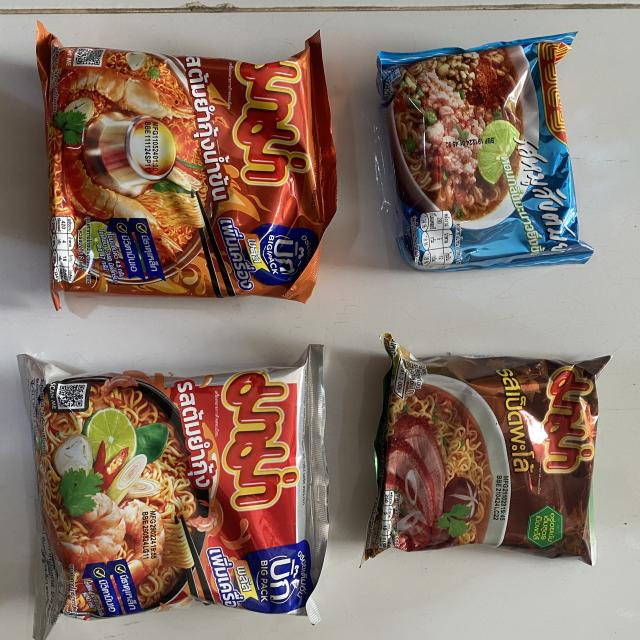plastik: (18, 345, 329, 640), (36, 22, 336, 309), (364, 334, 610, 562), (378, 32, 592, 270)
